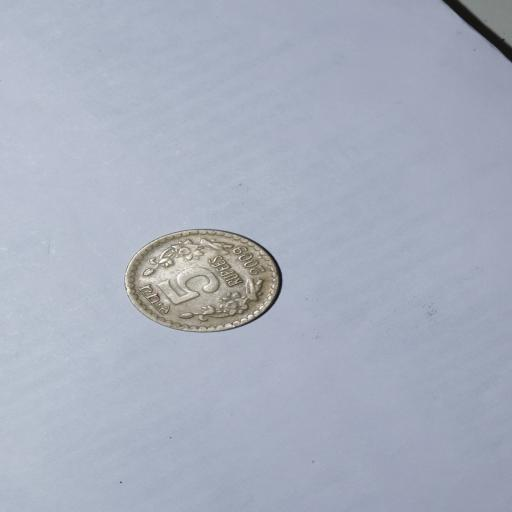rupee5: (123, 230, 280, 331)
